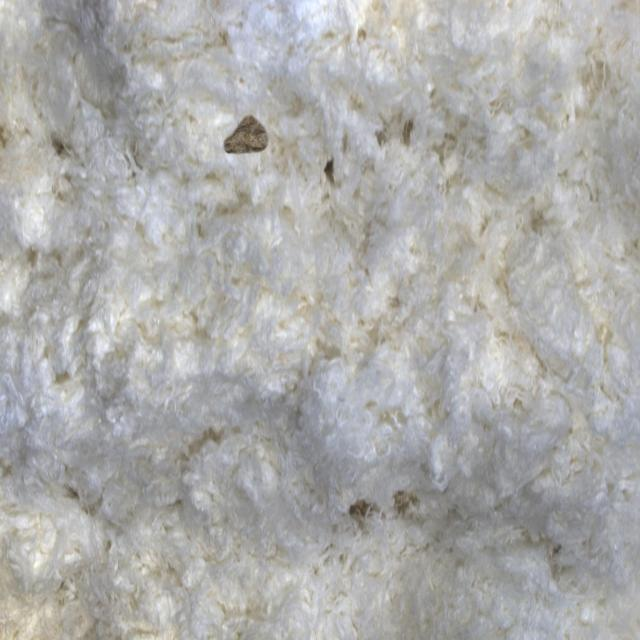dust: (203, 81, 299, 200)
